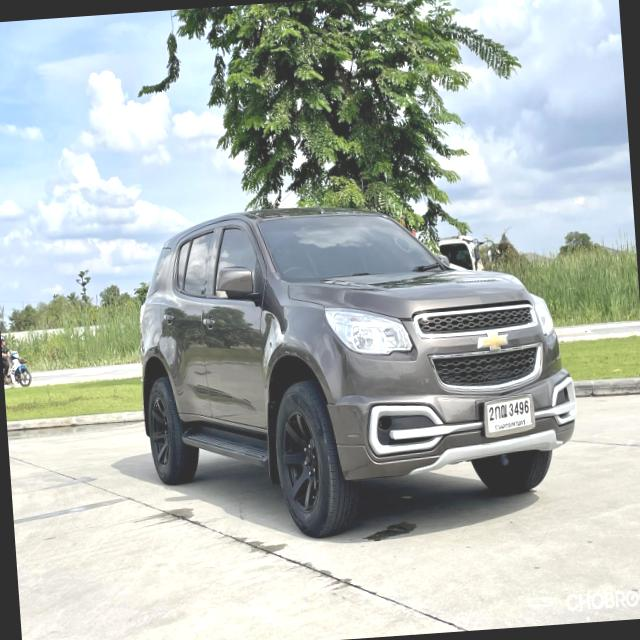license_plate: (479, 389, 538, 436)
